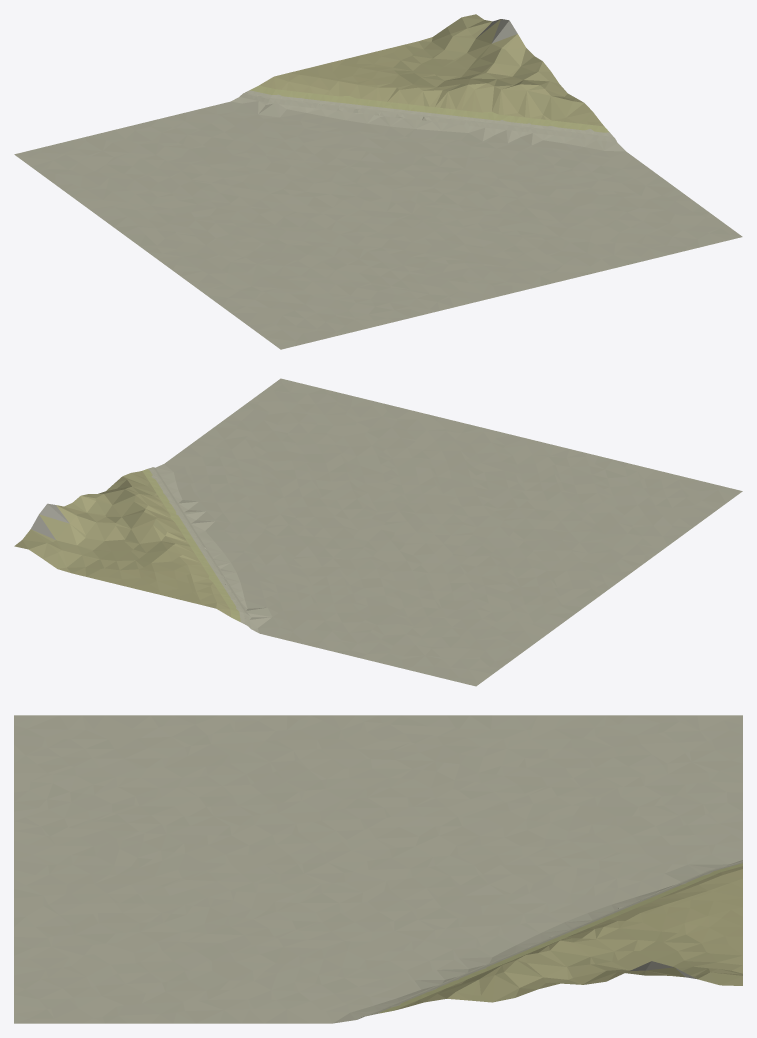
The model's file is Ground_-3_-2.glb.
The picture shows the model from 3 angles, top to bottom: view 1: azimuth 30°, elevation 25°; view 2: azimuth 150°, elevation 25°; view 3: azimuth 270°, elevation 25°; orthographic projection. The views are drawn at different scales.
Visible parts, largest first — view 1: Ground_-3_-2; view 2: Ground_-3_-2; view 3: Ground_-3_-2.
Part boxes in pixels (x1=…): Ground_-3_-2: x1=14, y1=14, x2=742, y2=349; Ground_-3_-2: x1=14, y1=378, x2=742, y2=686; Ground_-3_-2: x1=14, y1=715, x2=742, y2=1023.
Size of the model in its own units: 768 by 72.64 by 768.
